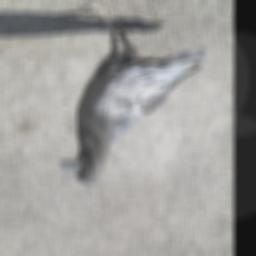Crow: (58, 5, 208, 188)
